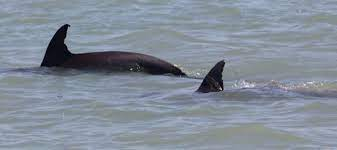fin: (32, 15, 193, 87)
